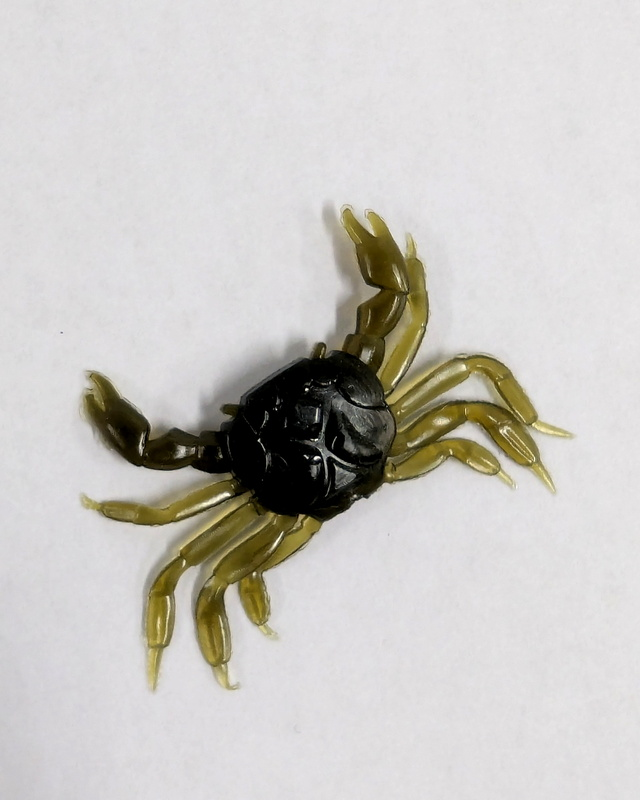crab2: (79, 205, 579, 697)
